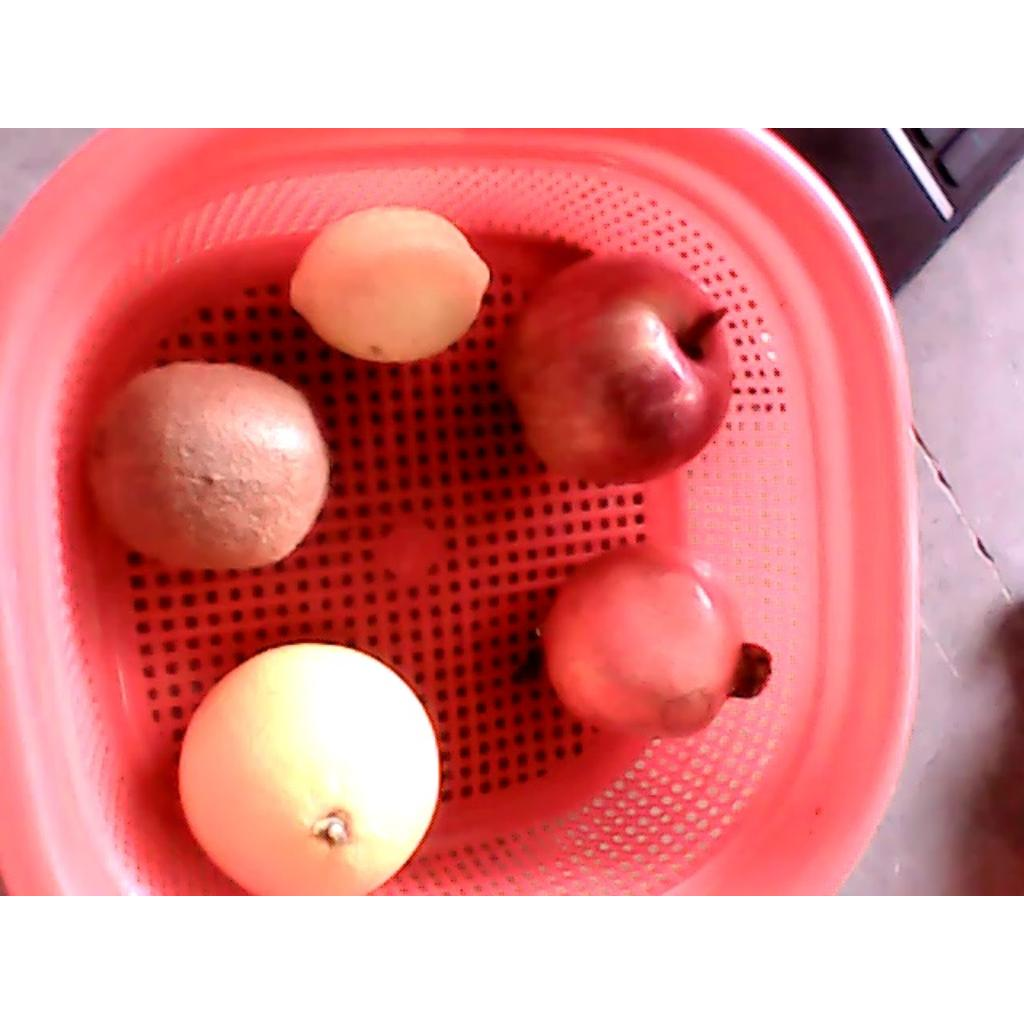apple: (499, 250, 733, 488)
kiwi: (85, 361, 329, 571)
lemon: (288, 207, 491, 362)
orange: (178, 643, 441, 894)
pomegranate: (541, 542, 775, 742)
